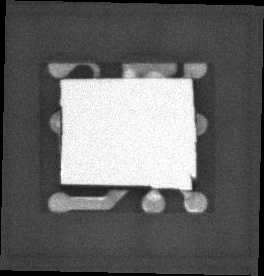DIE_BROKEN: (61, 182, 154, 191), (58, 104, 64, 139), (191, 77, 197, 110), (190, 176, 198, 191)
